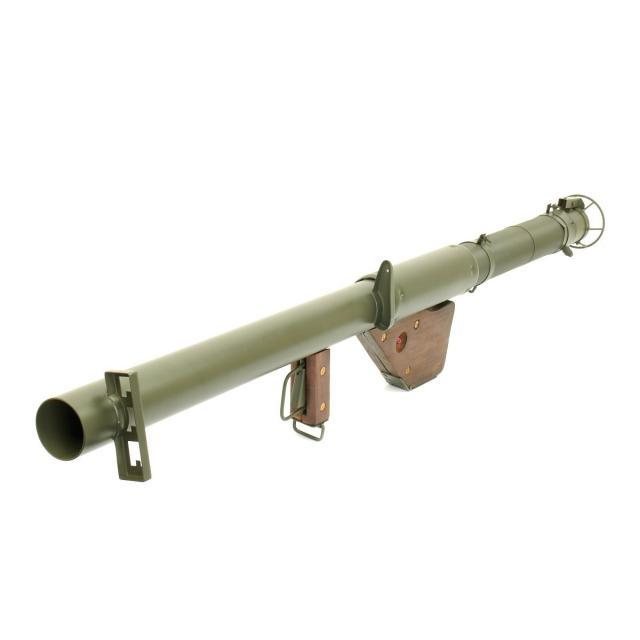rocket launcher: (26, 183, 615, 501)
